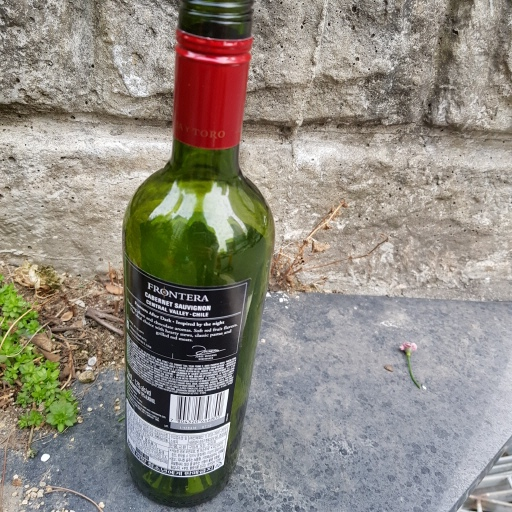Glass_2: (121, 1, 276, 512)
